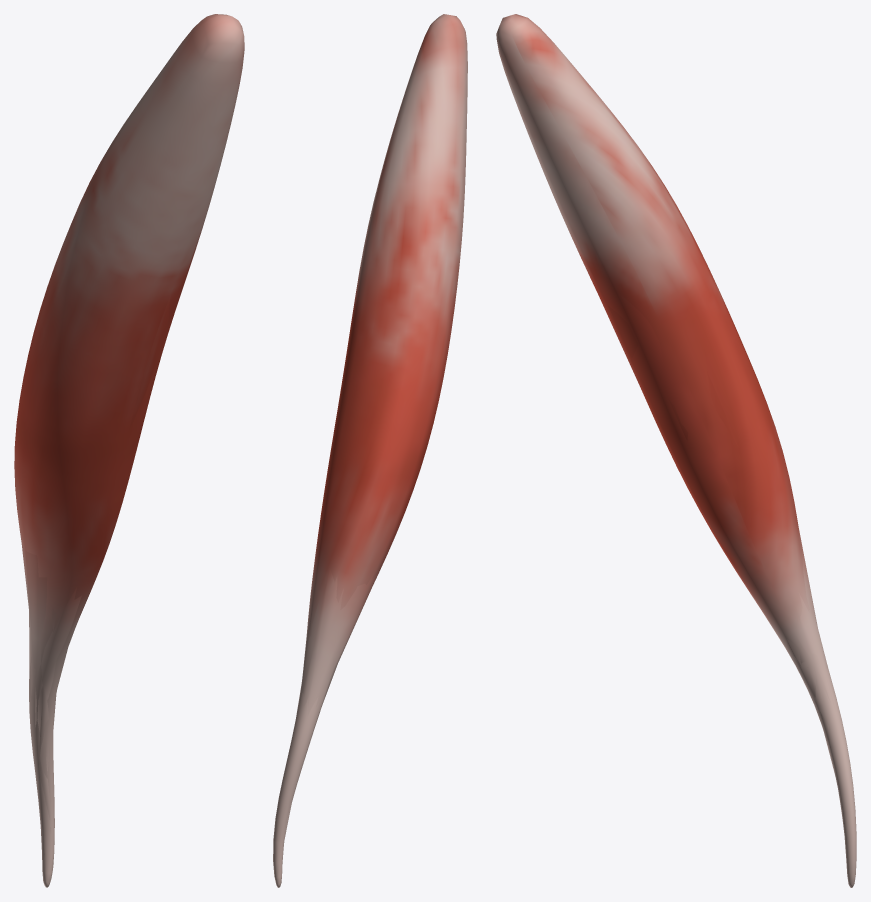
Rendered from R extensor digitorum lateralis.fbx.
3 views of the same model, side by side, from view 1: azimuth 30°, elevation 25°; view 2: azimuth 150°, elevation 25°; view 3: azimuth 270°, elevation 25° (orthographic). The views are drawn at different scales.
Visible parts, largest first — view 1: R extensor digitorum lateralis, R extensor digitorum lateralis low; view 2: R extensor digitorum lateralis, R extensor digitorum lateralis low; view 3: R extensor digitorum lateralis, R extensor digitorum lateralis low.
Boxes of the visible parts, bbox=[...] form: R extensor digitorum lateralis: bbox=[14, 14, 244, 887]; R extensor digitorum lateralis low: bbox=[21, 293, 172, 856]; R extensor digitorum lateralis: bbox=[273, 14, 467, 887]; R extensor digitorum lateralis low: bbox=[282, 569, 378, 863]; R extensor digitorum lateralis: bbox=[496, 14, 856, 887]; R extensor digitorum lateralis low: bbox=[588, 273, 844, 824].
Bounding box in the file's own units: 2.33 × 19.22 × 7.28.
